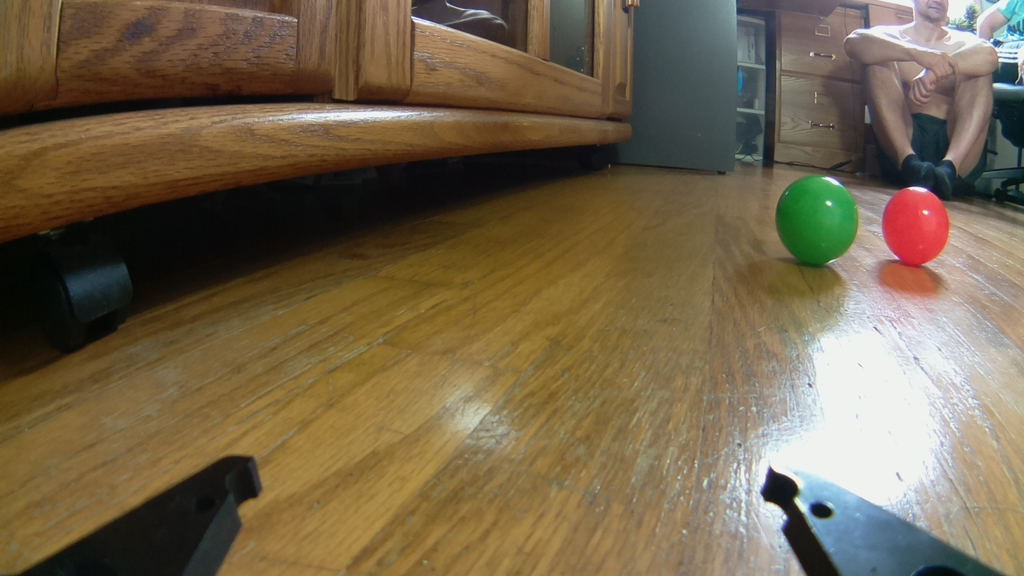ball: (881, 182, 950, 268)
